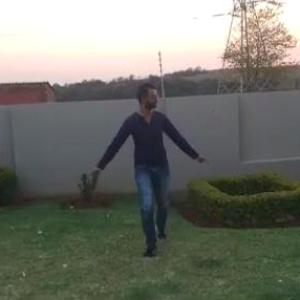land: (74, 66, 228, 281)
